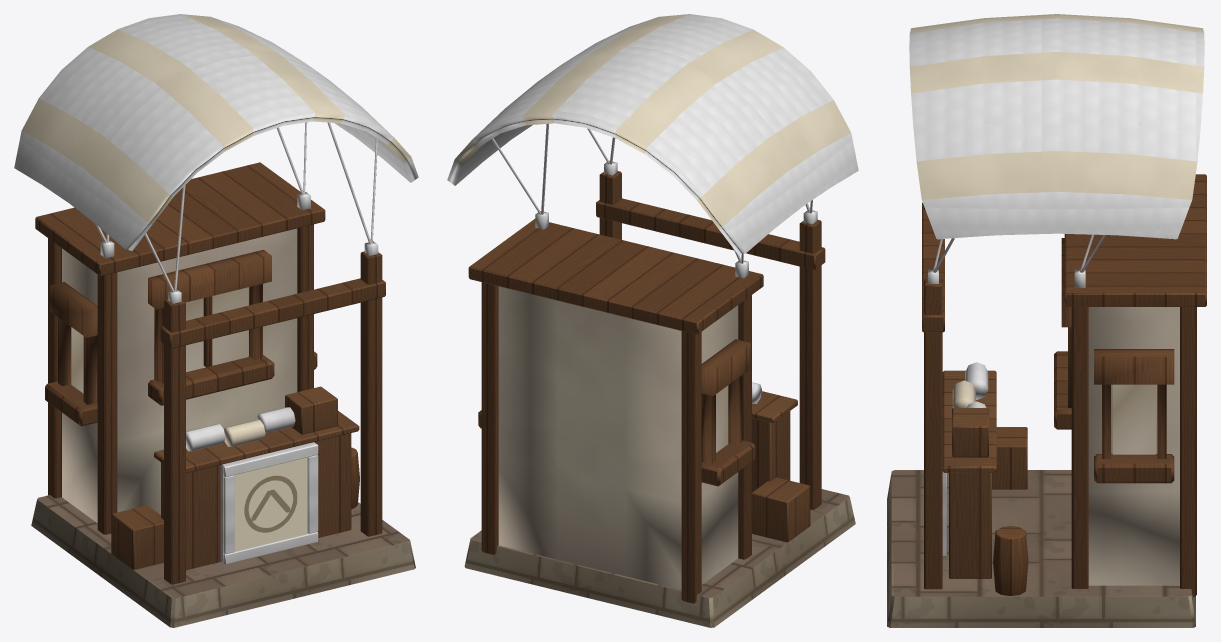
Rendered from protocol.paraswap.glb.
3 views of the same model, side by side, from view 1: azimuth 30°, elevation 25°; view 2: azimuth 150°, elevation 25°; view 3: azimuth 270°, elevation 25° (orthographic). The views are drawn at different scales.
Parts seen in each view (by area): view 1: building.protocol.paraswap.mesh, canopy.cloth, logo, canopy.mount; view 2: building.protocol.paraswap.mesh, canopy.cloth, canopy.mount; view 3: building.protocol.paraswap.mesh, canopy.cloth, canopy.mount.
Part boxes in pixels (x1,y1,x2,y2): building.protocol.paraswap.mesh: (31,162,415,627); canopy.cloth: (14,14,418,250); logo: (220,442,318,564); canopy.mount: (95,122,378,303); building.protocol.paraswap.mesh: (464,171,855,627); canopy.cloth: (447,14,858,254); canopy.mount: (491,123,817,278); building.protocol.paraswap.mesh: (887,174,1206,627); canopy.cloth: (909,14,1204,239); canopy.mount: (928,234,1105,287).
Size of the model in its own units: 2.39 by 3.79 by 2.07.
Materials: 7 (6 with a texture image).
